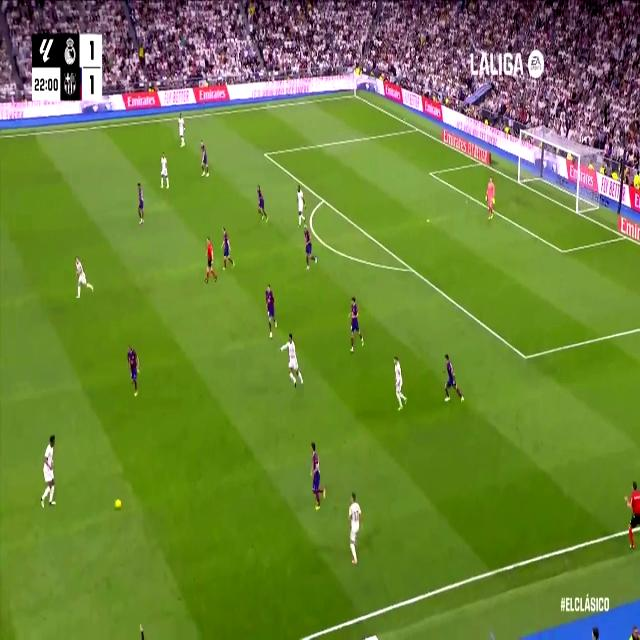bigarea_bottom_inner: (520, 344, 530, 370)
bigarea_top_inner: (262, 147, 268, 160)
bigarea_top_outter: (414, 122, 420, 134)
bottom_arc_area_intersection: (406, 260, 416, 278)
corner: (351, 90, 358, 100)
smallarea_top_inner: (428, 168, 433, 178)
top_arc_area_intersection: (320, 192, 327, 206)
